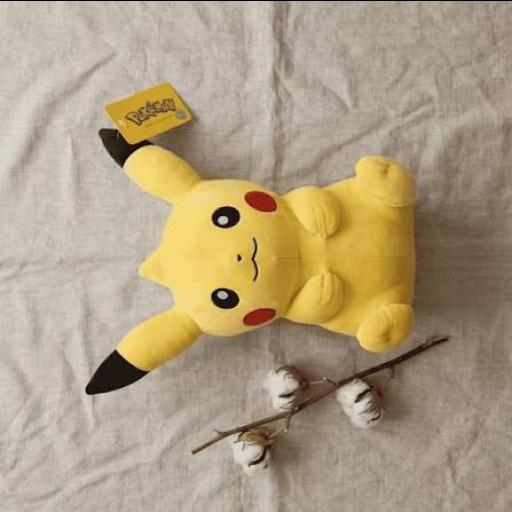Pikachu: (84, 125, 418, 394)
